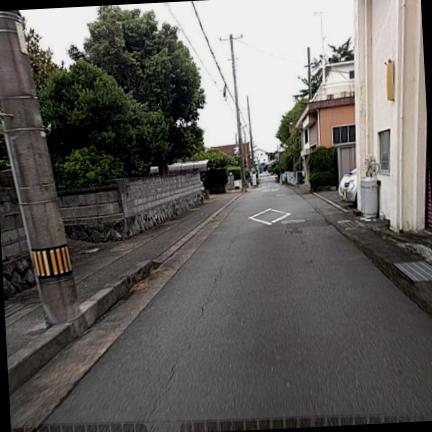Road: (47, 178, 431, 424)
